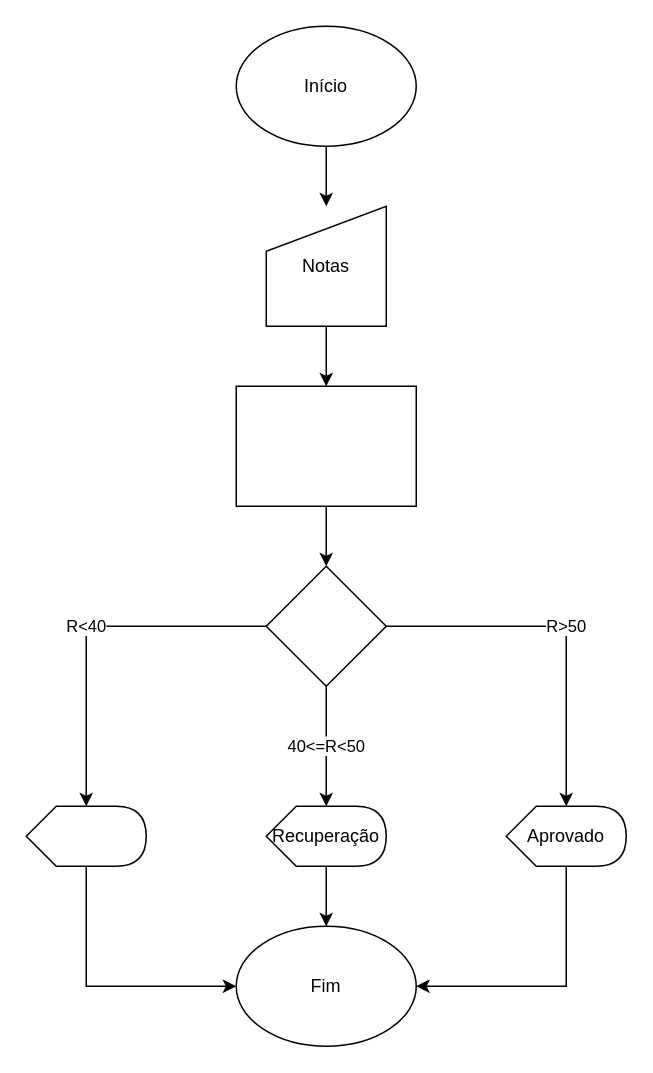
The diagram is 653 pixels wide and 1073 high, and some of its shapes have lost their labels. The centre of each missing label's shape, as x and y in pixels:
R <- Somatória de Notas / 5: the point at 325,445
Reprovado: the point at 85,835
